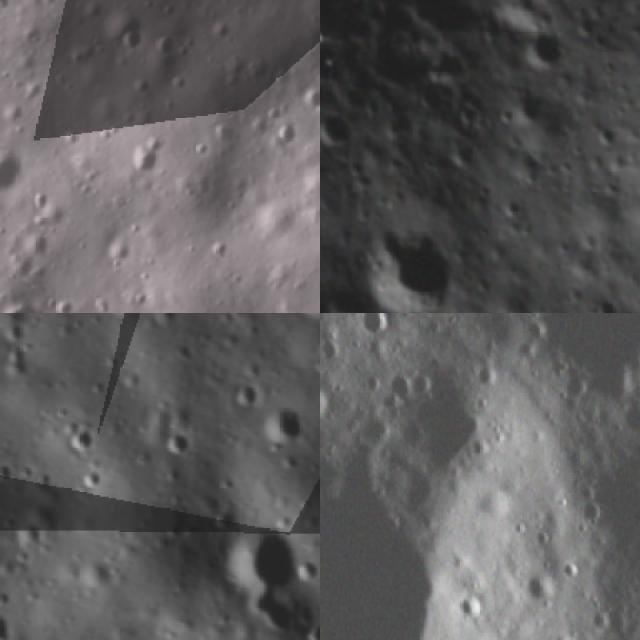crater: (320, 437, 504, 640), (462, 313, 640, 443), (372, 212, 461, 308), (505, 7, 589, 93), (217, 516, 311, 588), (20, 183, 85, 247), (104, 5, 164, 65), (0, 129, 44, 206), (236, 588, 302, 638), (376, 359, 431, 415), (516, 556, 568, 612), (320, 95, 363, 159), (95, 222, 147, 274), (261, 404, 313, 448), (607, 390, 640, 453), (0, 282, 64, 313), (61, 421, 106, 460), (583, 282, 639, 313), (320, 371, 346, 436), (5, 515, 46, 555), (527, 615, 592, 640), (76, 558, 120, 594), (345, 313, 398, 342), (162, 426, 198, 463), (226, 378, 264, 412), (77, 464, 111, 497), (0, 461, 21, 490), (0, 609, 18, 640), (98, 313, 145, 324), (308, 618, 320, 640)
